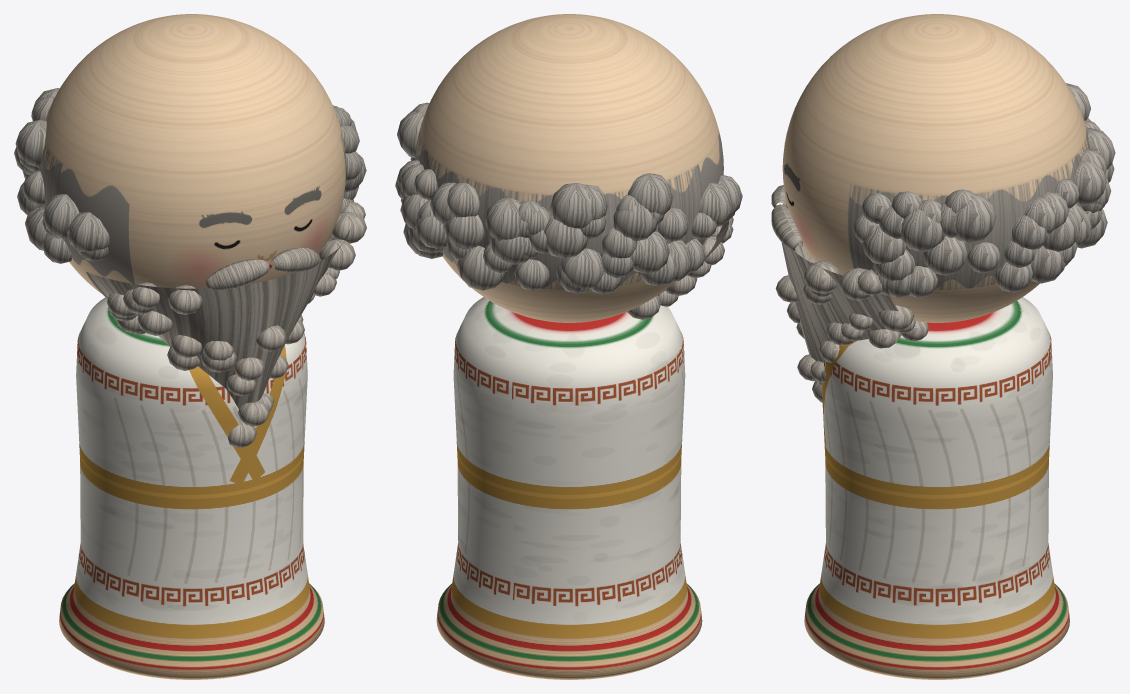
File: socrates.glb
The picture shows the model from 3 angles, left to right: view 1: azimuth 30°, elevation 25°; view 2: azimuth 150°, elevation 25°; view 3: azimuth 270°, elevation 25°; orthographic projection.
Visible parts, largest first — view 1: body, head, Socrates; view 2: body, head, Socrates; view 3: body, head, Socrates.
Part boxes in pixels (left/top/right/bottom): body: left=59, top=297, right=324, bottom=679; head: left=38, top=14, right=346, bottom=293; Socrates: left=14, top=88, right=366, bottom=447; body: left=436, top=297, right=702, bottom=679; head: left=415, top=14, right=723, bottom=322; Socrates: left=395, top=102, right=742, bottom=319; body: left=804, top=297, right=1069, bottom=679; head: left=782, top=14, right=1089, bottom=322; Socrates: left=771, top=83, right=1115, bottom=402.
Size of the model in its own units: 0.0866 by 0.1605 by 0.0835.
7 materials, 6 textured.
